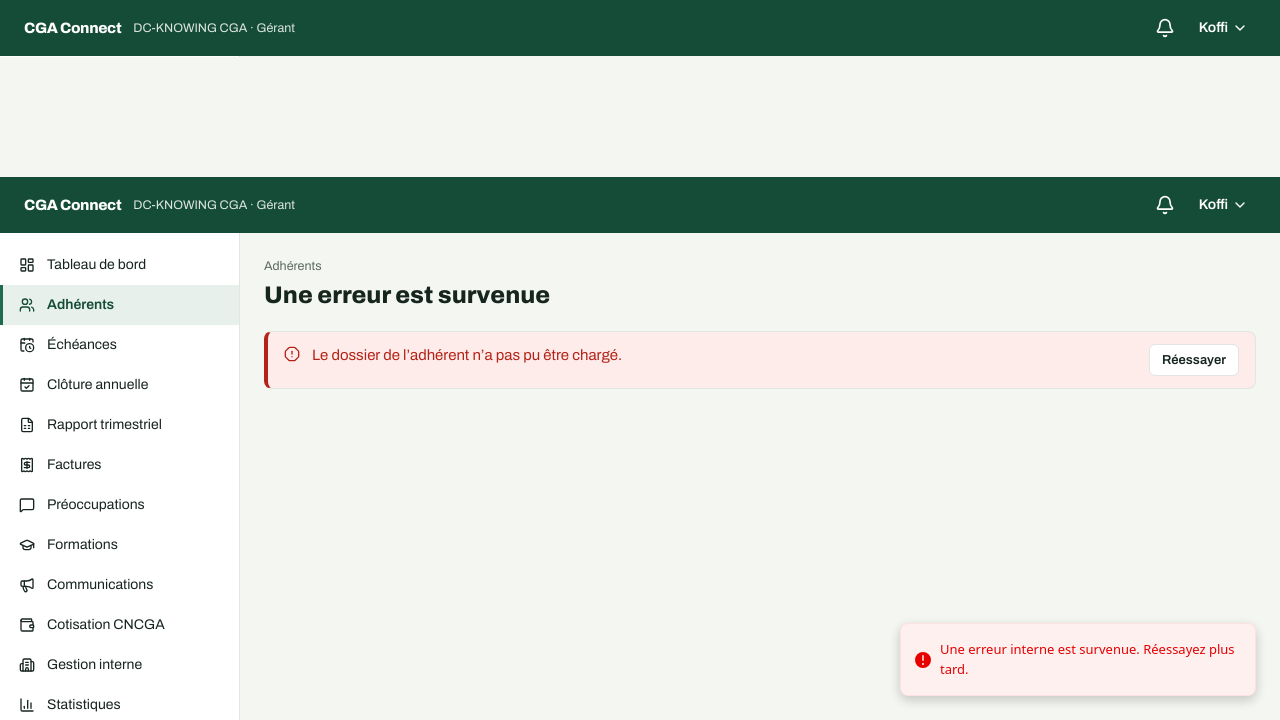
Scenario: /cga/adherents/:id · en-tête et onglet Identité (F-ADH-03) › dossier inconnu : « Élément introuvable » ; panne : bandeau et « Réessayer »
(page scrolled)
Expected: the text "Le dossier de l’adhérent n’a pas pu être chargé." is shown, [312,347,622,363]
Click the button "Réessayer": (1194, 360) [1149,344,1239,376]
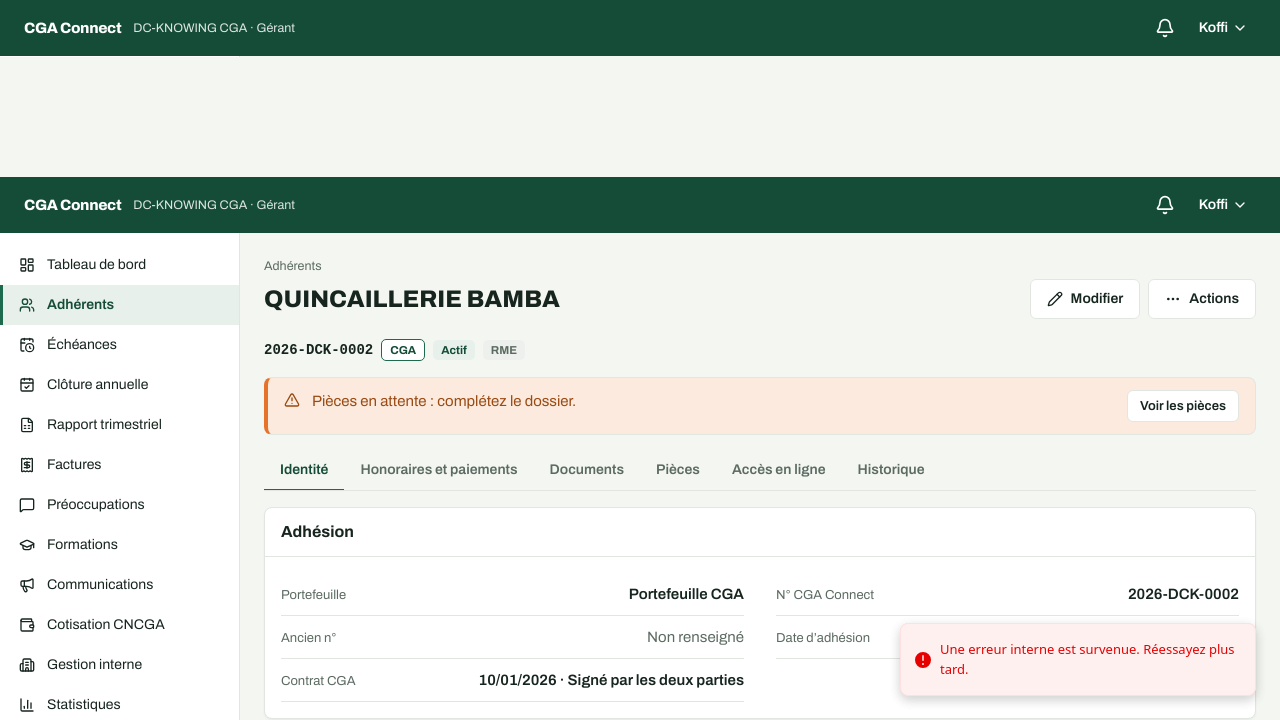
Expected: the heading "QUINCAILLERIE BAMBA" is shown, [264,283,560,315]
